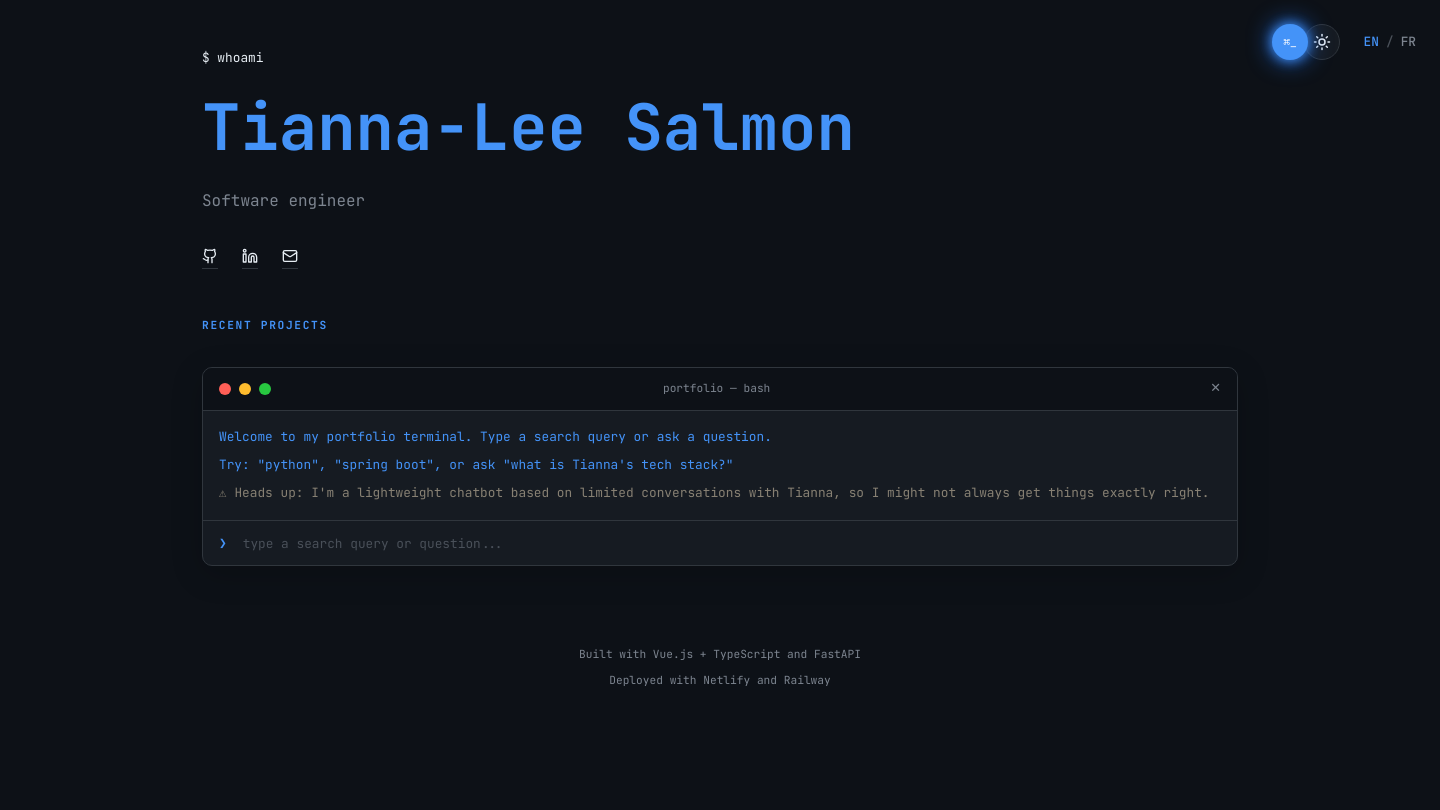
Test: App › switches to French at /fr and back to English at /
Click the button with class "language-toggle".
click(1390, 42)  # box [1364,24,1416,60]
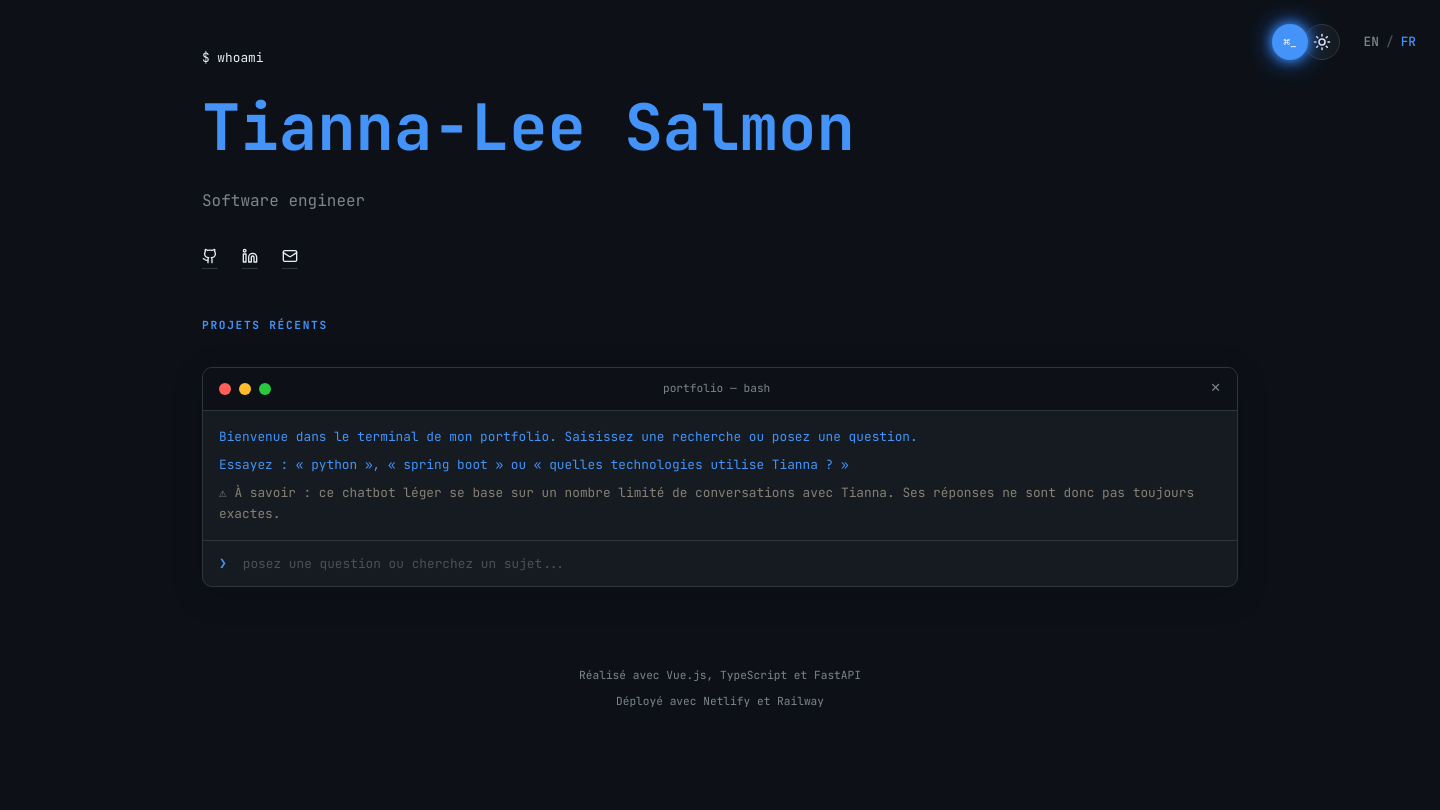
Now the text "Projets récents" is shown, box [202,318,328,332]
Click the button with class "language-toggle".
click(1390, 42)  # box [1364,24,1416,60]
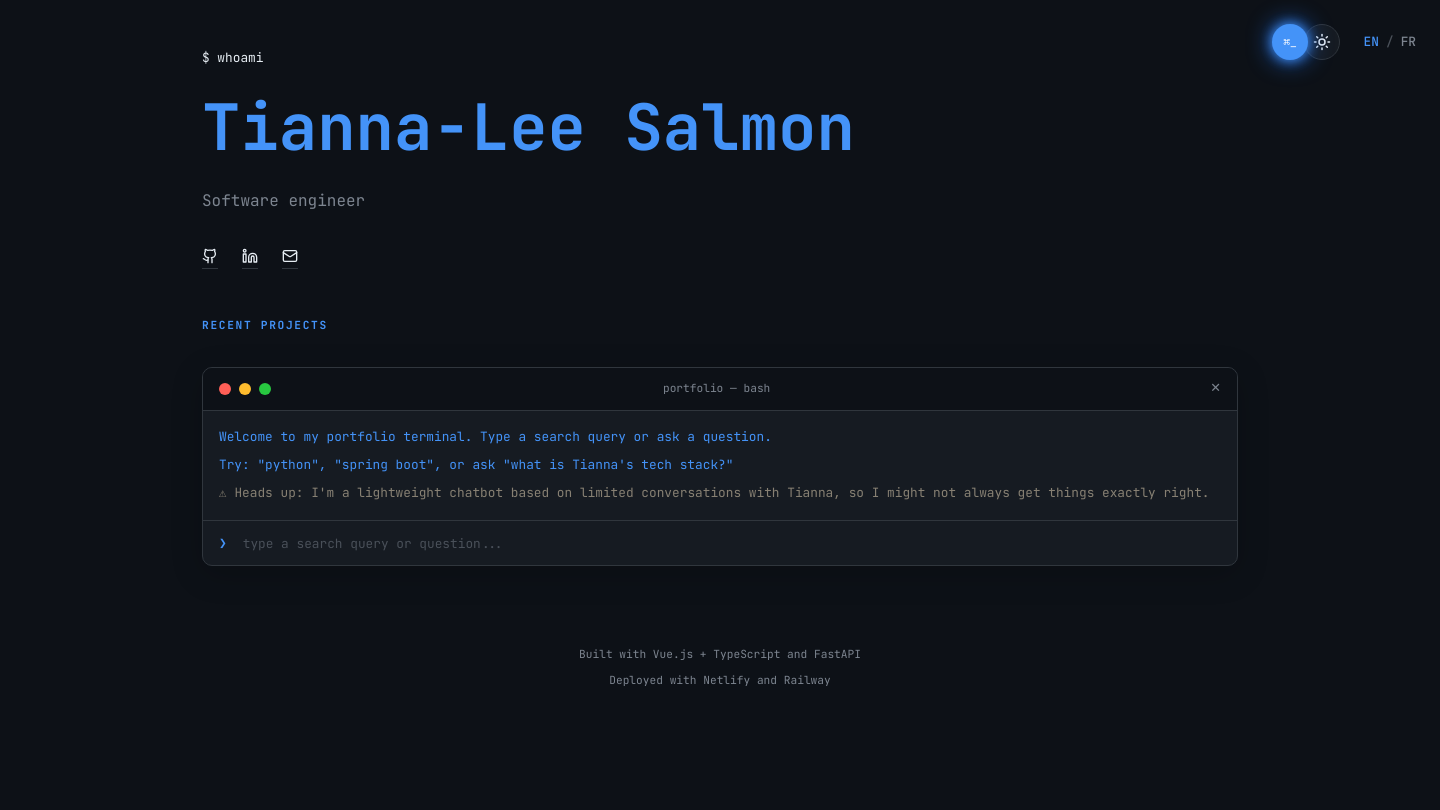
Now the text "Recent Projects" is shown, box [202,318,328,332]
